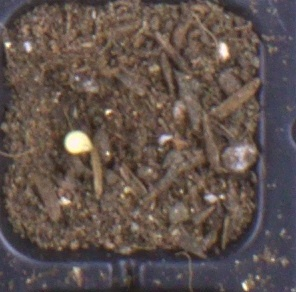chilli seed: (63, 130, 94, 155)
